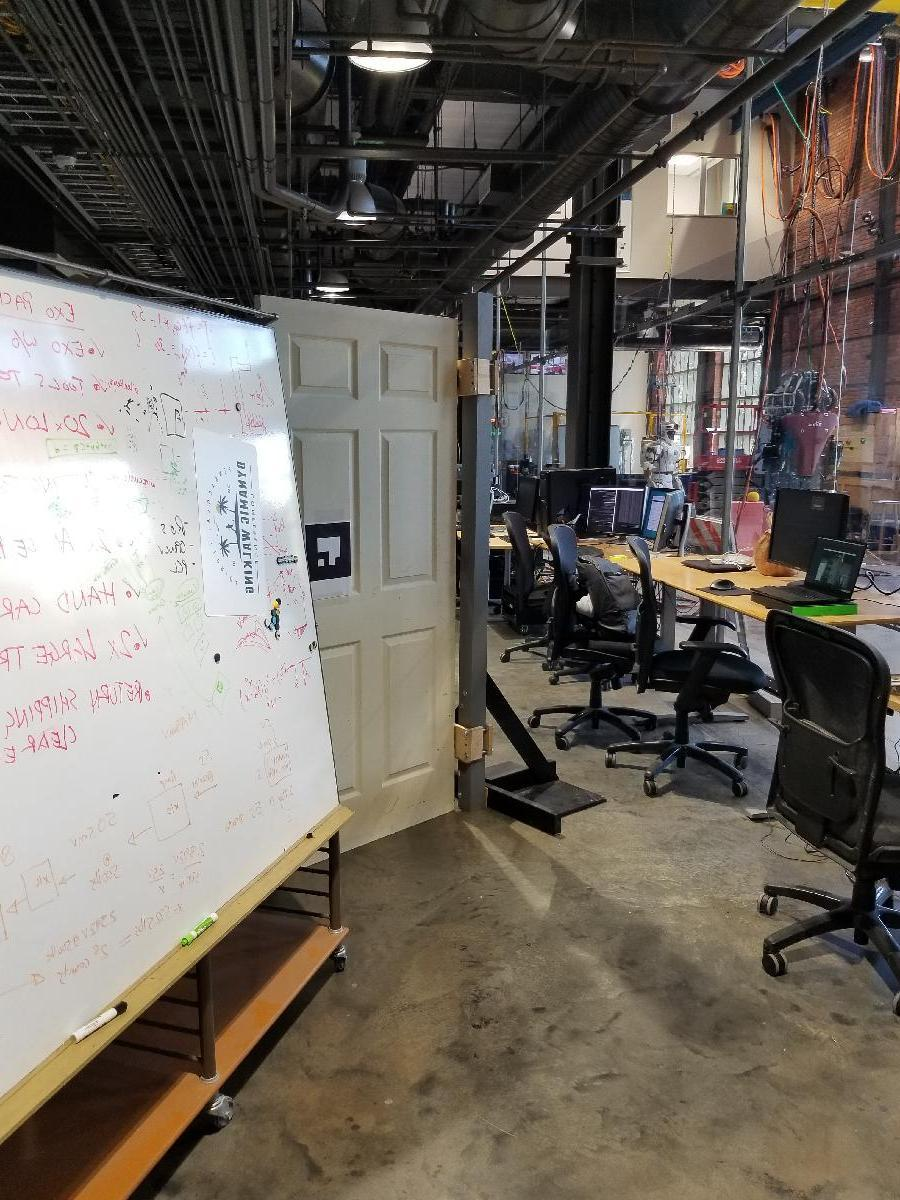door: (259, 308, 454, 851)
